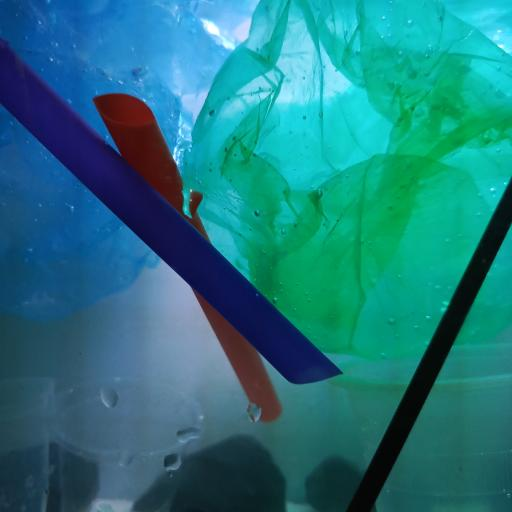plastic_bag: (186, 0, 509, 355), (0, 0, 233, 323)
plastic_cup: (327, 340, 512, 512), (44, 375, 206, 512), (2, 375, 56, 512)
plastic_straw: (0, 38, 342, 386), (91, 90, 284, 425), (344, 174, 512, 512)
